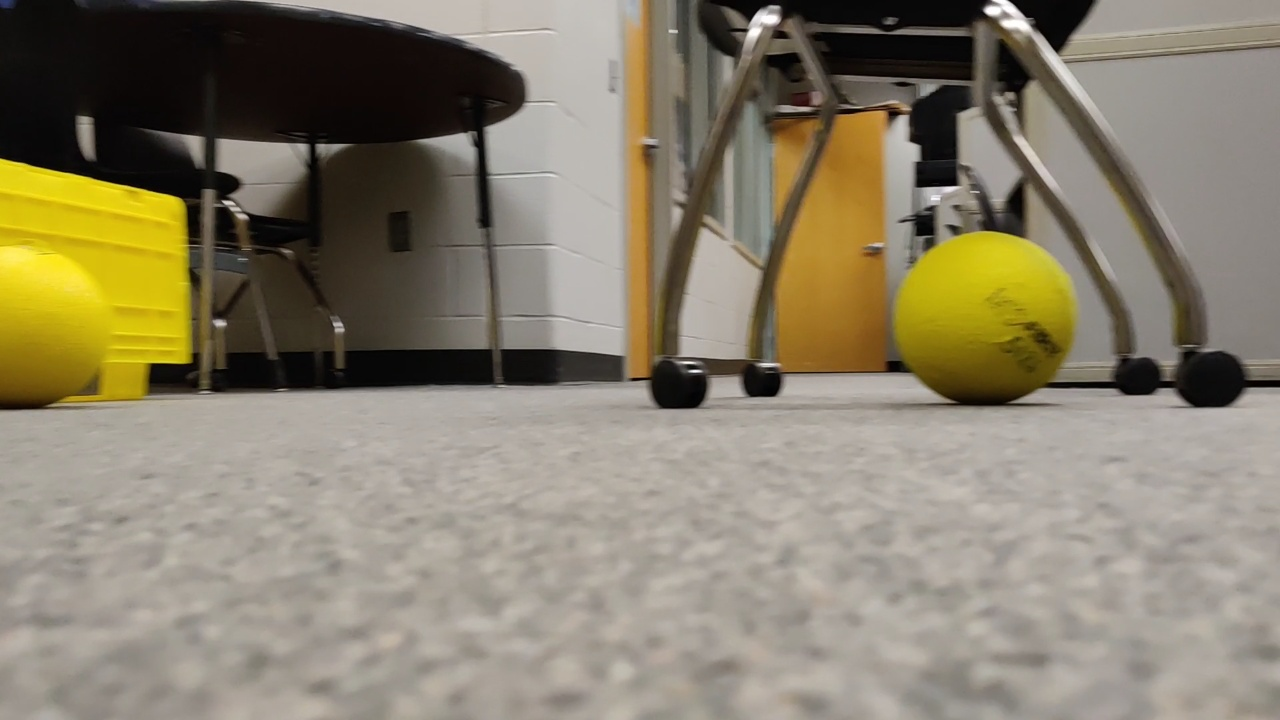Ball: (896, 218, 1084, 407), (1, 241, 108, 405)
